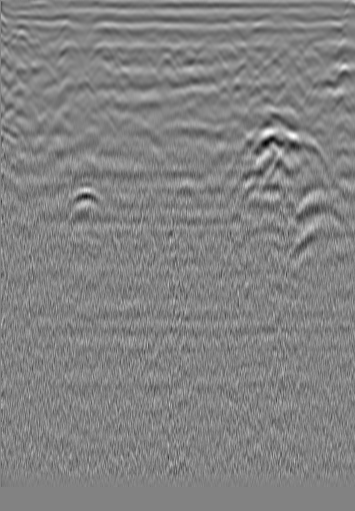가스: (64, 185, 105, 222)
상수: (307, 33, 327, 53)
오수: (27, 46, 47, 66)
우수: (174, 55, 194, 75)
